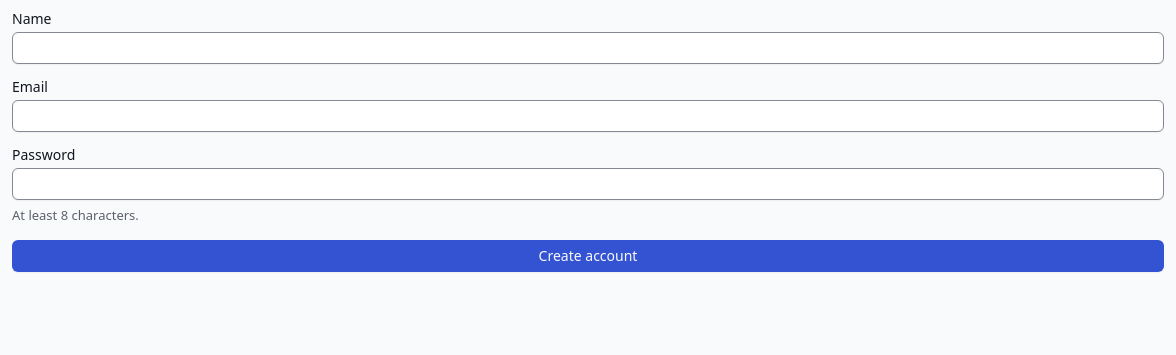
Test case: SignUpForm › shows the server's message when sign-up is rejected
In the field labelled "Name": [588, 48] box [12, 32, 1164, 64], type "New User"
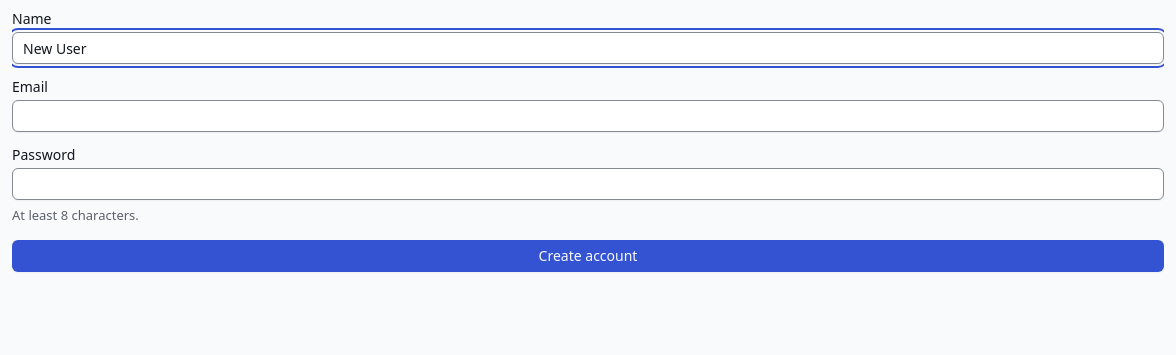
In the field labelled "Email": [588, 116] box [12, 100, 1164, 132], type "new@example.com"
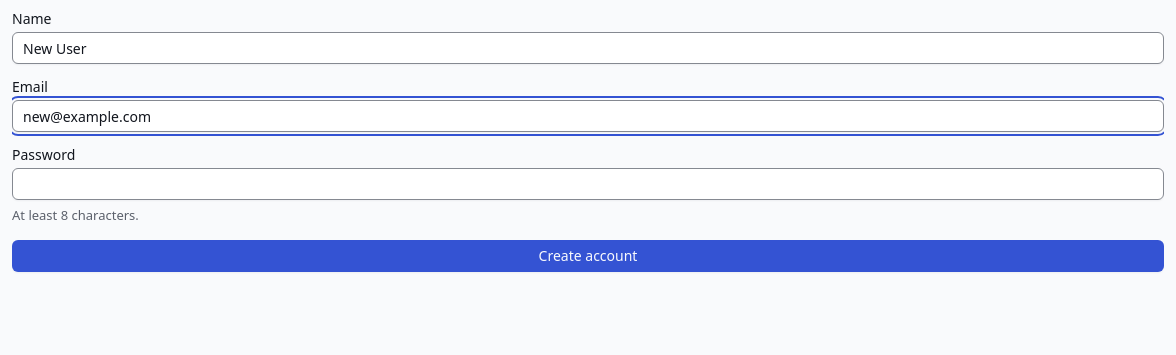
In the password field labelled "Password": [588, 184] box [12, 168, 1164, 200], type "a-strong-password"
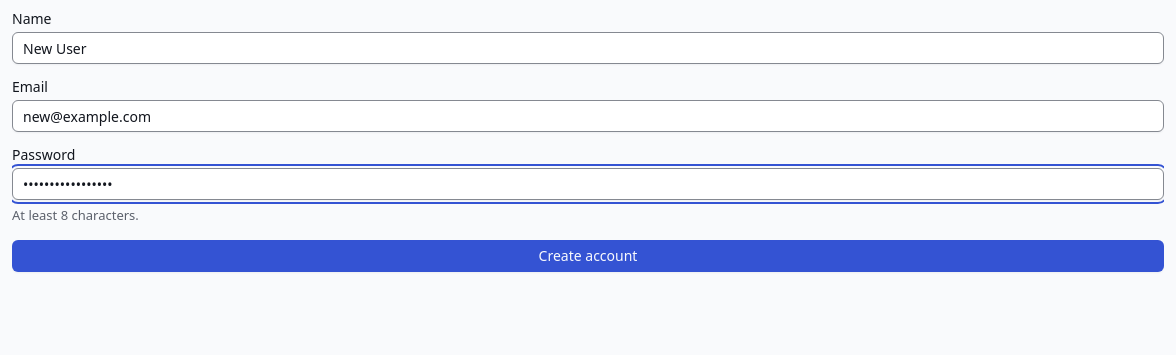
Click the button "Create account": [588, 256] box [12, 240, 1164, 272]
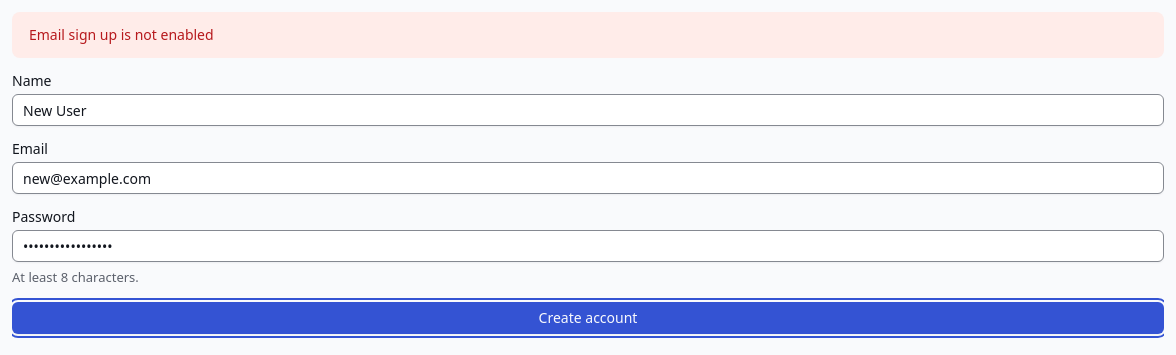
Now the message reads "Email sign up is not enabled", box [29, 25, 214, 44]
